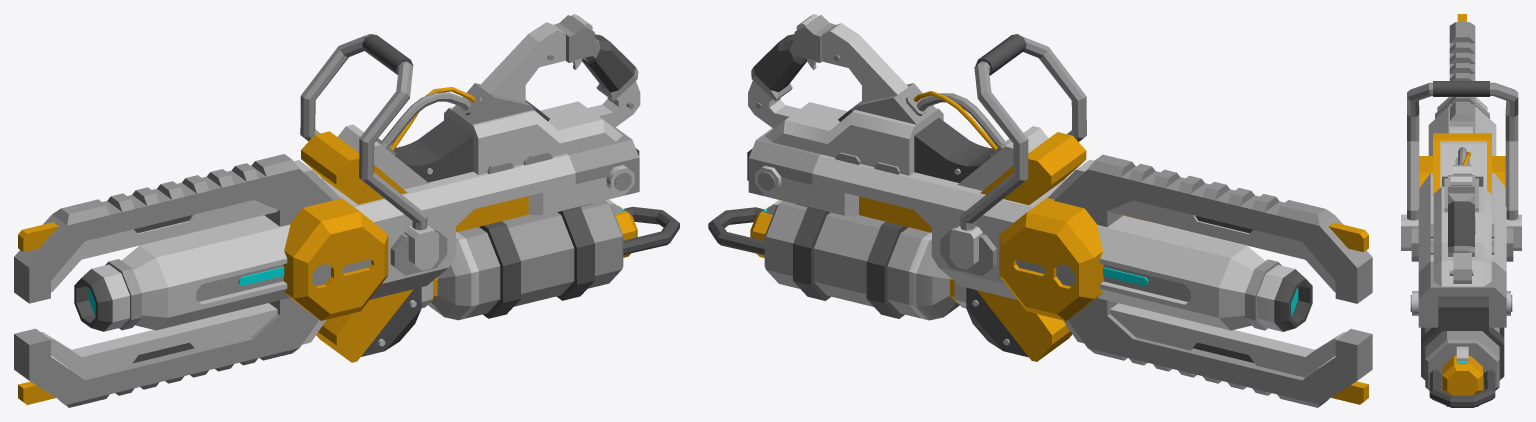
3 views of the same model, side by side, from view 1: azimuth 30°, elevation 25°; view 2: azimuth 150°, elevation 25°; view 3: azimuth 270°, elevation 25° (orthographic). The views are drawn at different scales.
Parts seen in each view (by area): view 1: SM_FT01, SM_FT01_Cylinder; view 2: SM_FT01, SM_FT01_Cylinder; view 3: SM_FT01, SM_FT01_Cylinder.
Boxes of the visible parts, box(x1,y1,x2,y2) form: SM_FT01: box(14, 14, 640, 407); SM_FT01_Cylinder: box(428, 199, 679, 320); SM_FT01: box(747, 14, 1372, 407); SM_FT01_Cylinder: box(708, 200, 959, 320); SM_FT01: box(1401, 14, 1521, 330); SM_FT01_Cylinder: box(1421, 327, 1504, 407).
Bounding box in the file's own units: 100 × 42.86 × 19.08.
